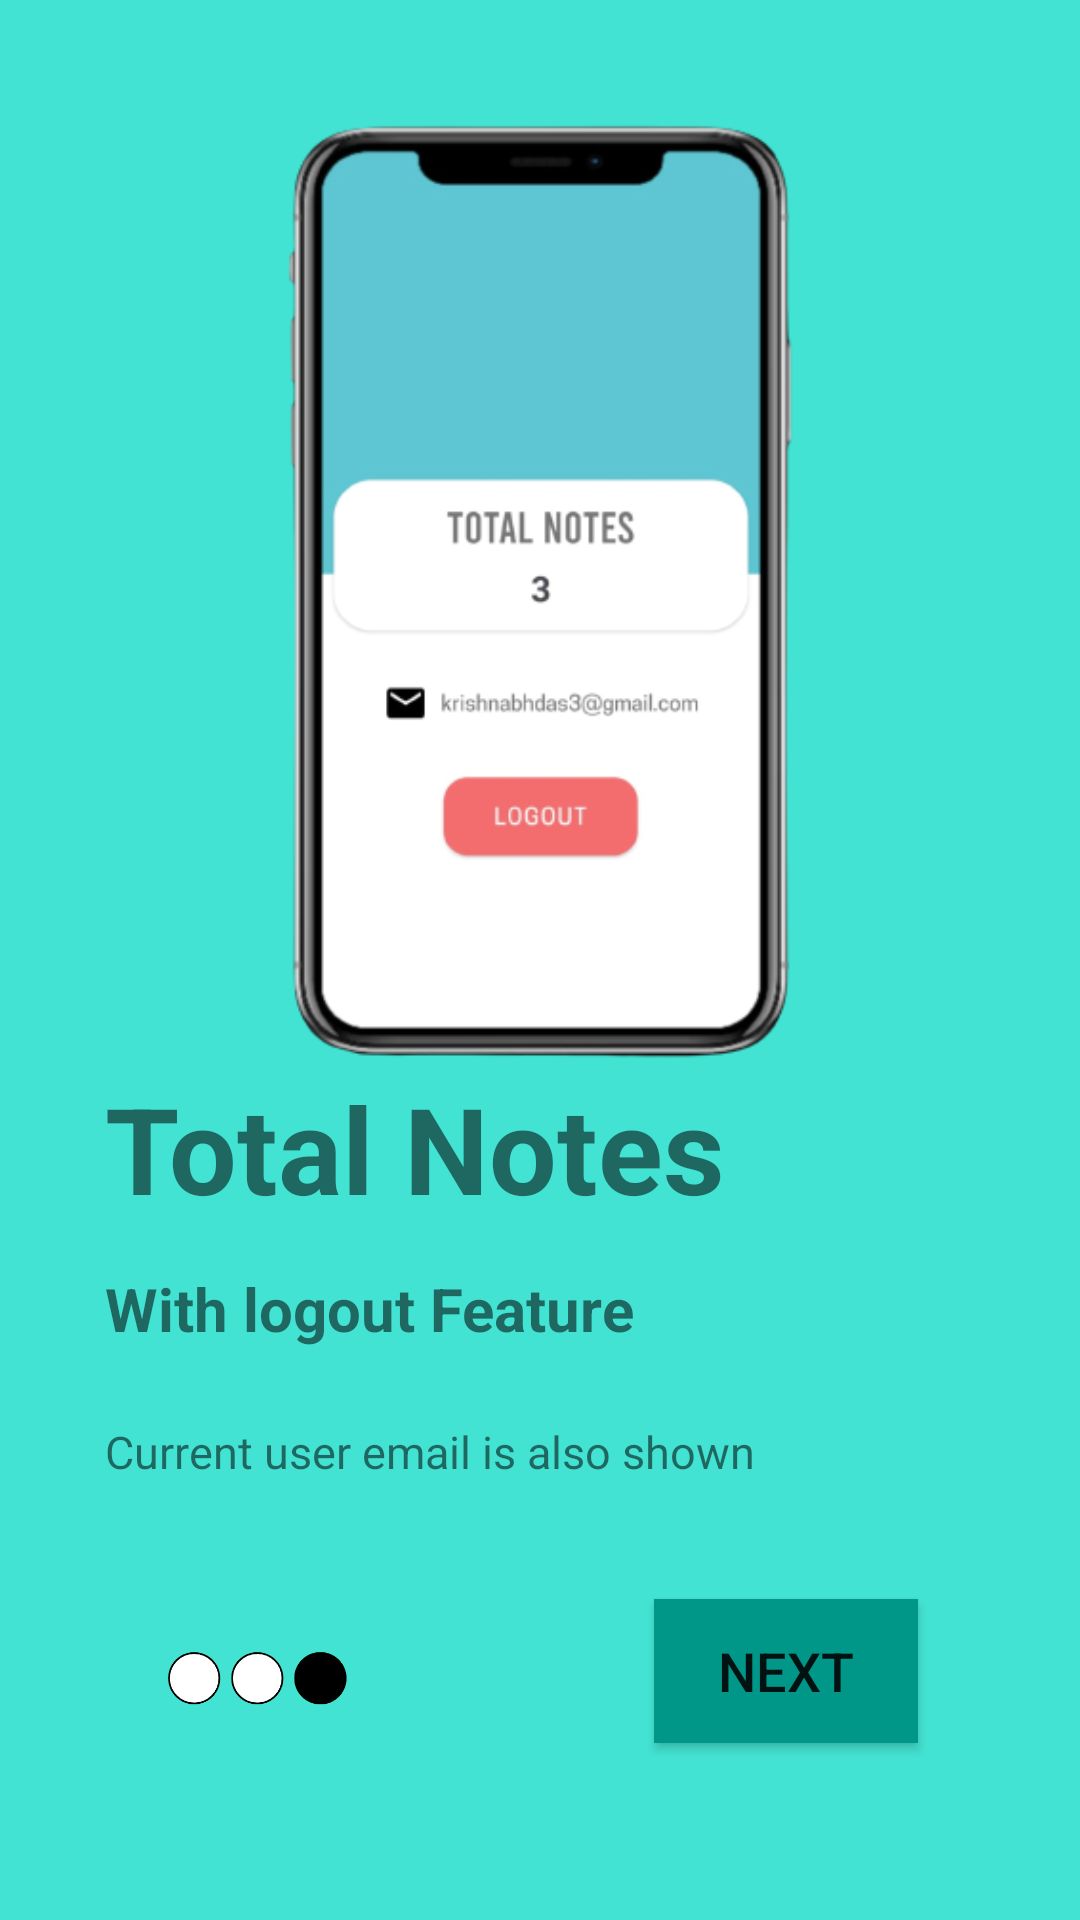

Screen size 1080×1920. Icon name, then its box in pixels as [x1,y1,x2,y2]:
onboardnav: [168,1652,347,1705]
